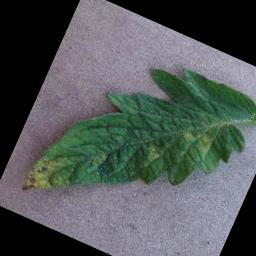Leaf_Mold: (21, 146, 74, 204), (144, 145, 165, 164)
